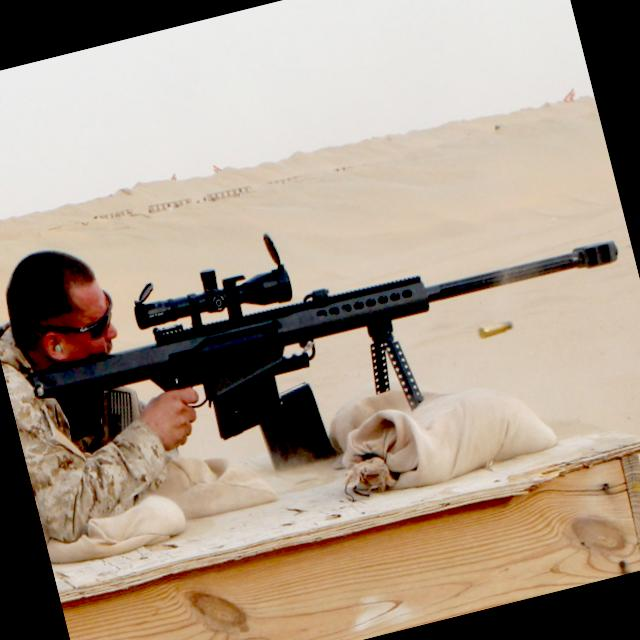rifle: (19, 170, 640, 491)
